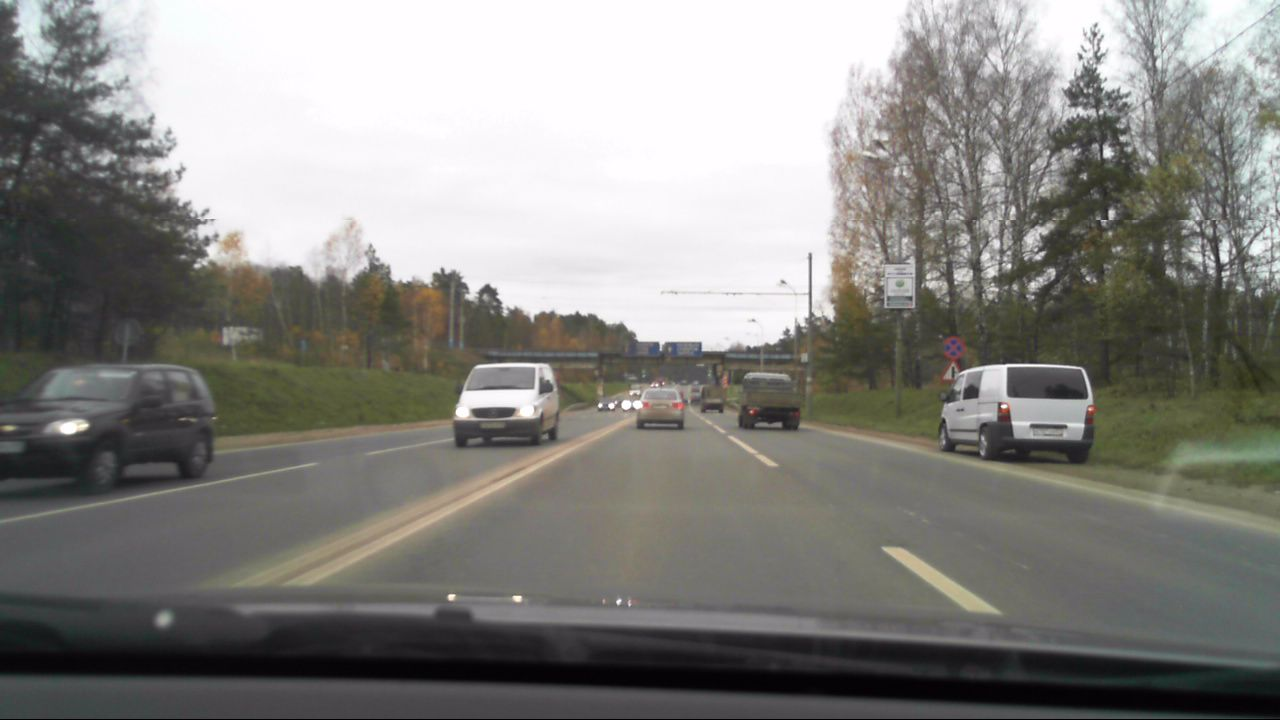No Parking: (940, 333, 968, 359)
